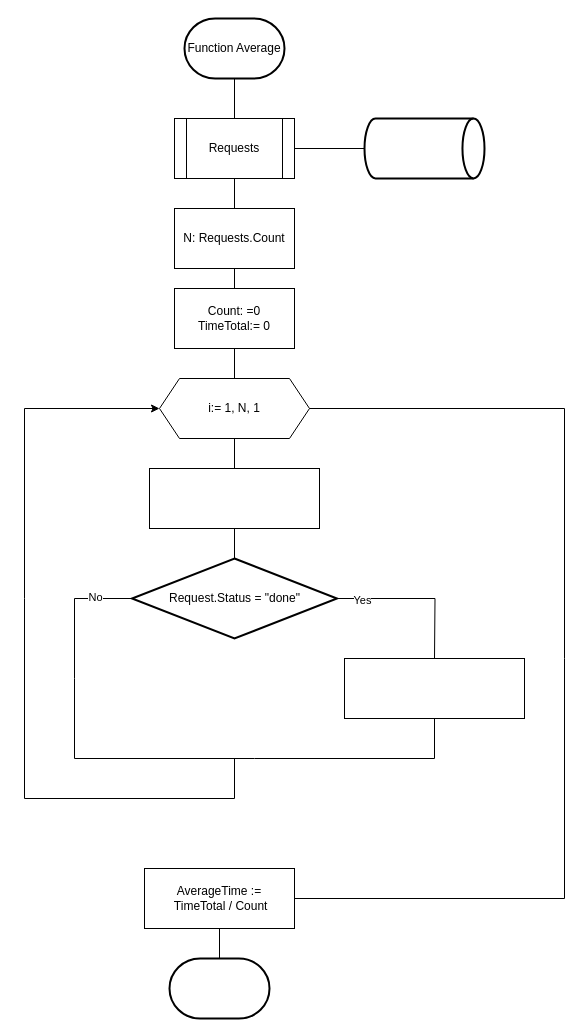
Some shapes in this 583 by 1036 pixel diagram are drawn without their labels. Each missing label, with the box of its shape:
Count:= Count +1 TimeTotal := TimeTotal + Request.Time: (344, 658, 524, 718)
DB Request: (363, 117, 485, 179)
Request:= Requests[i]: (148, 468, 320, 528)
Return: (168, 957, 270, 1019)
